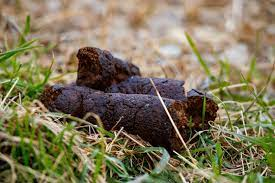Dog: (45, 49, 218, 148)
